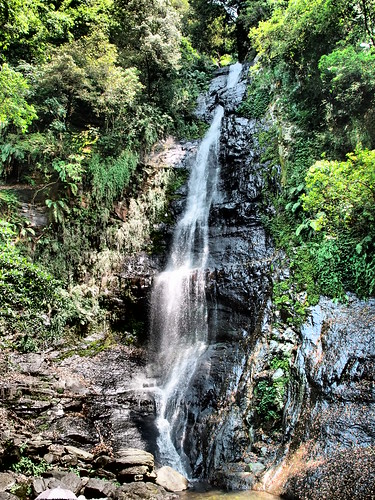wufengciWaterfall: (96, 63, 315, 473)
